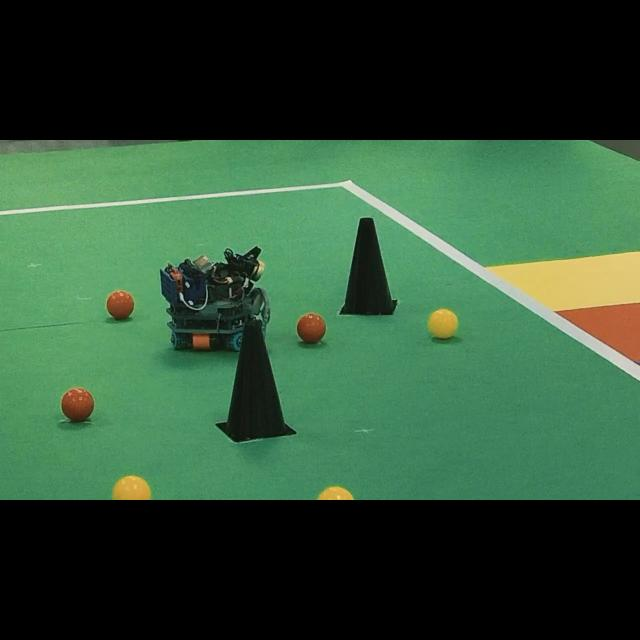ball: (61, 389, 94, 421), (112, 475, 151, 500), (296, 312, 326, 343), (428, 309, 458, 338), (106, 290, 134, 319), (318, 486, 354, 500)
goal: (488, 251, 640, 363), (558, 302, 640, 363)
